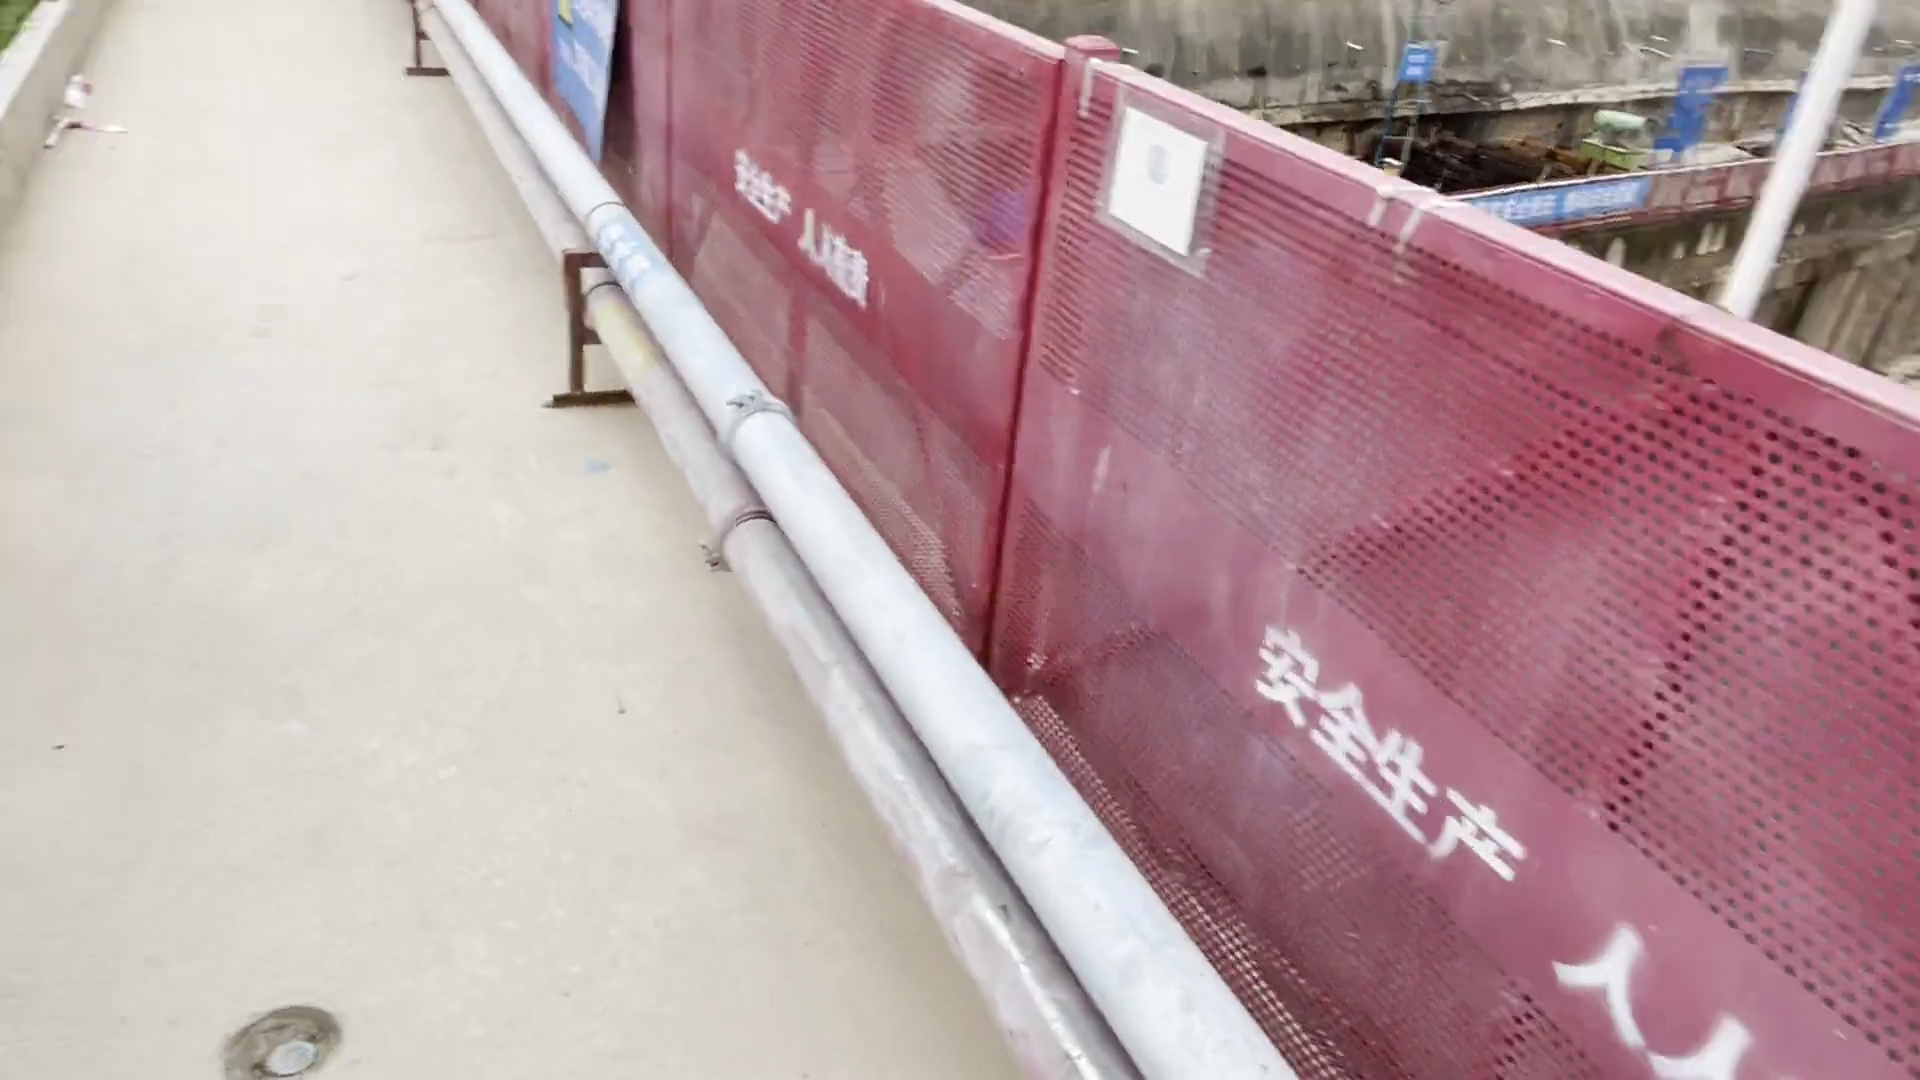fence: (882, 11, 1876, 1080)
